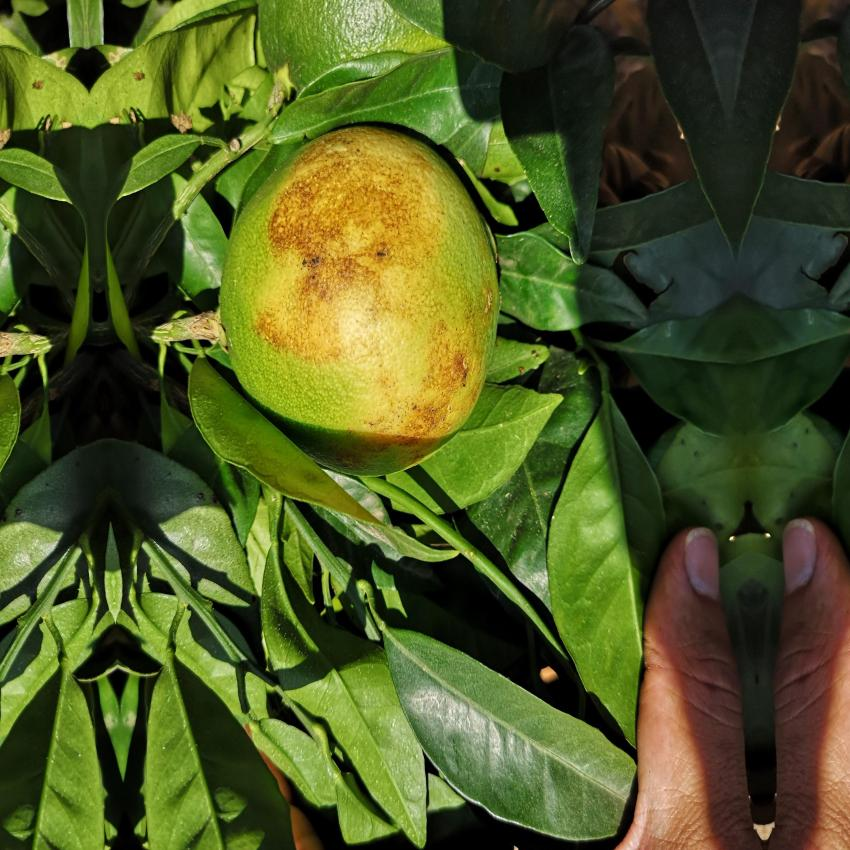Mal estado: (210, 115, 507, 478)
